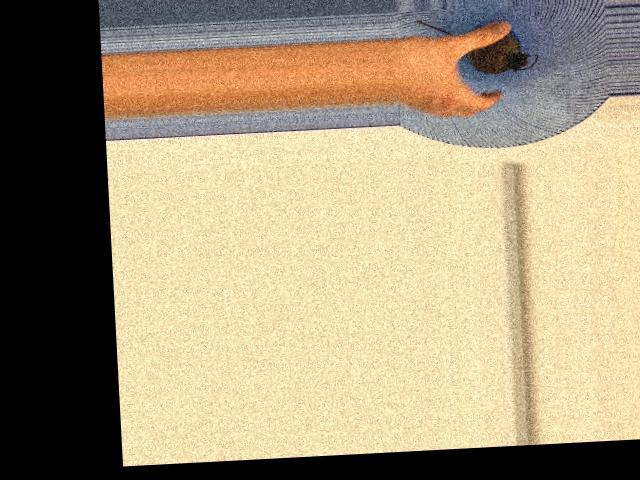beet: (417, 13, 539, 77)
